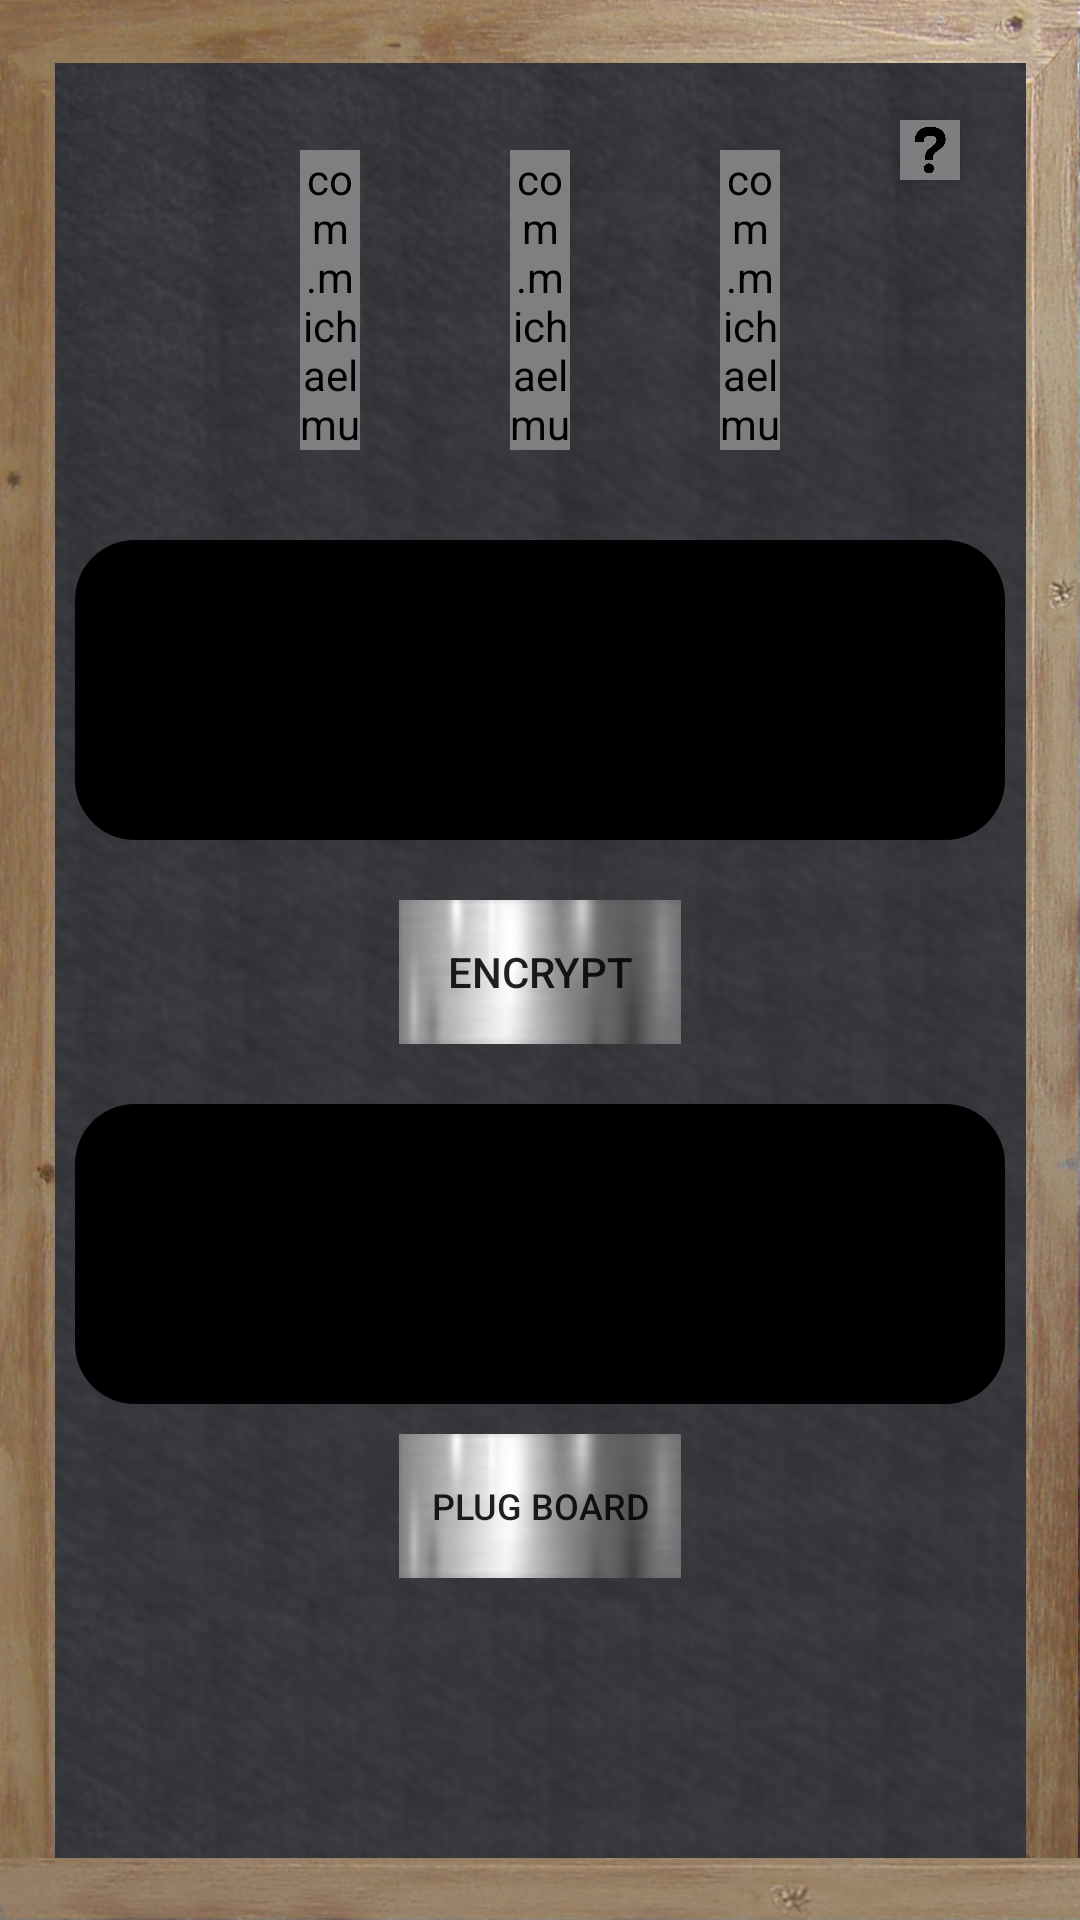

Named icons in this screenshot (1080×1920) and their centers, point (x, y):
question: point (930, 150)
